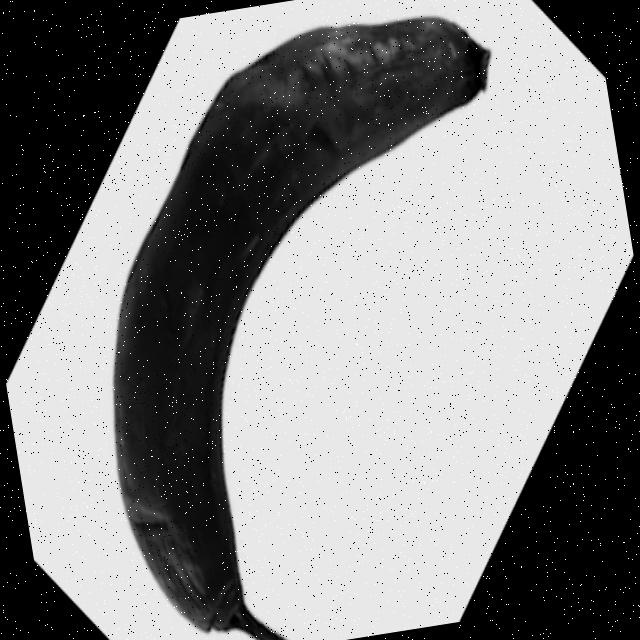Rotten: (53, 1, 579, 640)
